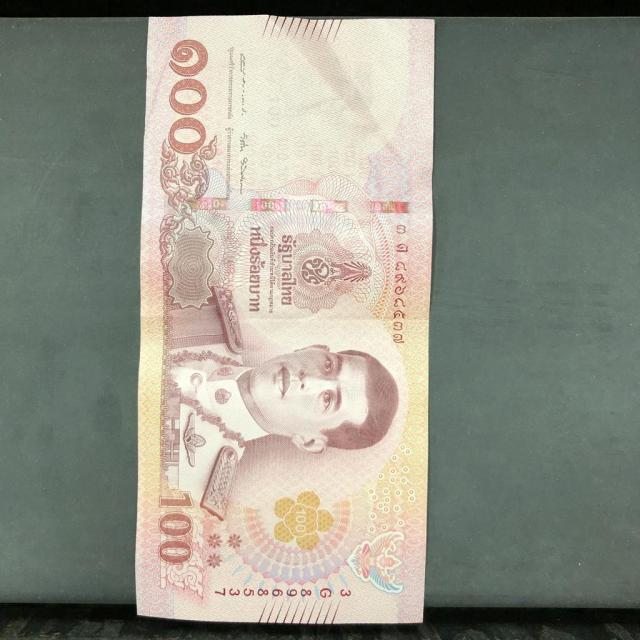THAI100: (135, 15, 436, 626)
